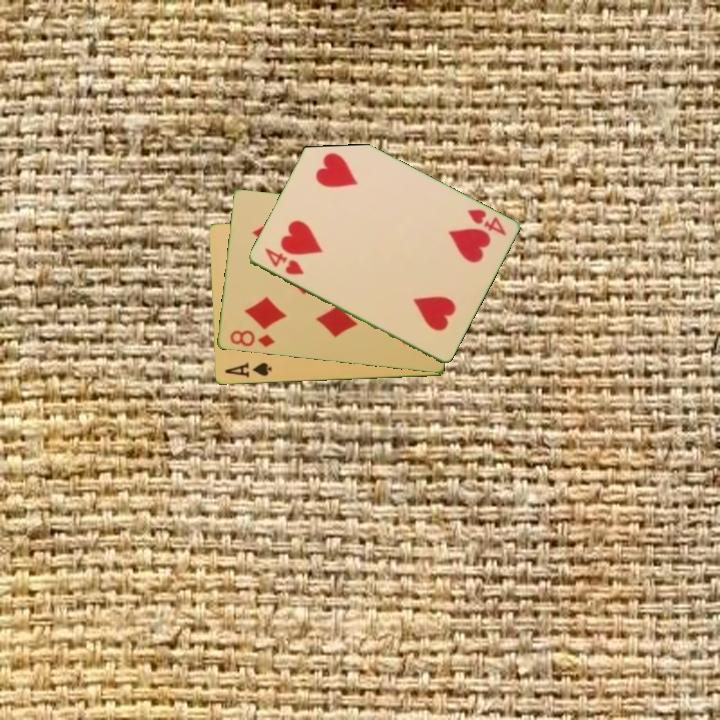4h: (261, 244, 306, 278), (463, 206, 509, 239)
8d: (226, 327, 277, 350)
As: (221, 359, 274, 381)
